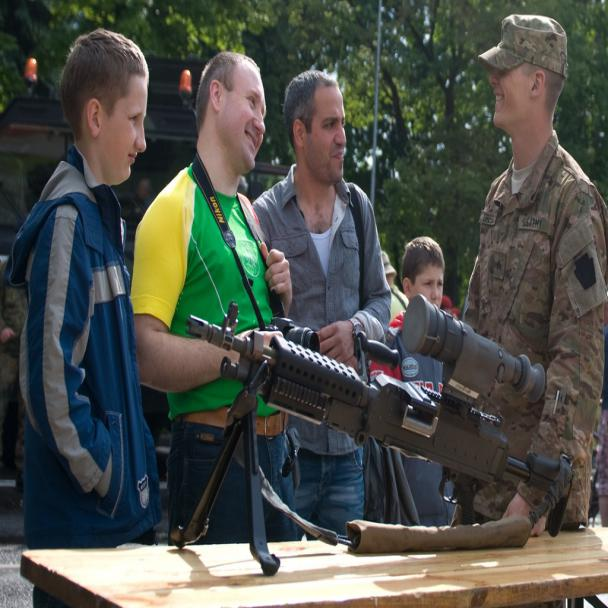Gun: (186, 294, 563, 562)
Hand: (256, 236, 297, 313), (314, 317, 366, 360)
